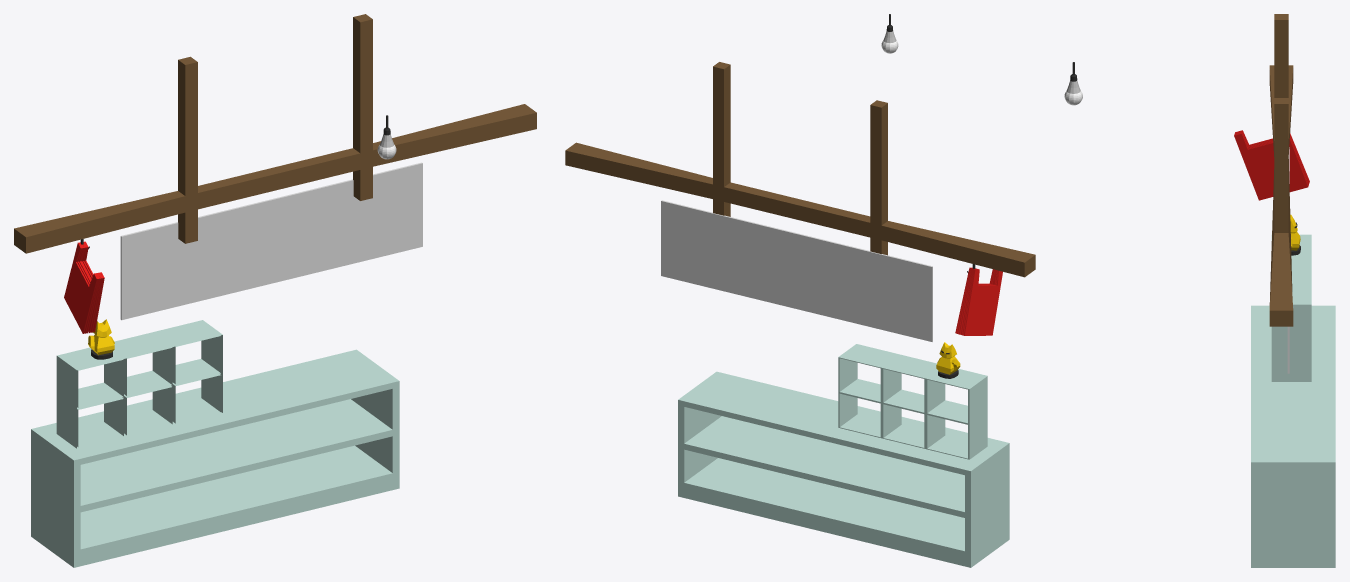
The model's file is sarisarismall.fbx.
3 views of the same model, side by side, from view 1: azimuth 30°, elevation 25°; view 2: azimuth 150°, elevation 25°; view 3: azimuth 270°, elevation 25° (orthographic). The views are drawn at different scales.
Parts seen in each view (by area): view 1: sarisarismall, stallname, wood, glass, Plastic.019, LuckyCat.003; view 2: sarisarismall, stallname, wood, glass, Plastic.019, LuckyCat.003; view 3: sarisarismall, wood, glass, Plastic.019, light.
Part boxes in pixels (<box>): sarisarismall: <box>31,349,399,567</box>; stallname: <box>120,162,422,320</box>; wood: <box>14,14,536,253</box>; glass: <box>56,320,222,448</box>; Plastic.019: <box>64,241,104,333</box>; LuckyCat.003: <box>88,319,114,359</box>; sarisarismall: <box>678,371,1009,567</box>; stallname: <box>661,200,932,341</box>; wood: <box>565,62,1035,277</box>; glass: <box>838,344,987,459</box>; Plastic.019: <box>955,267,1002,335</box>; LuckyCat.003: <box>936,342,960,378</box>; sarisarismall: <box>1251,305,1335,567</box>; wood: <box>1269,14,1293,326</box>; glass: <box>1271,234,1311,381</box>; Plastic.019: <box>1234,130,1309,200</box>; light: <box>1064,62,1082,105</box>.
Size of the model in its own units: 6.83 by 5.93 by 3.19.
